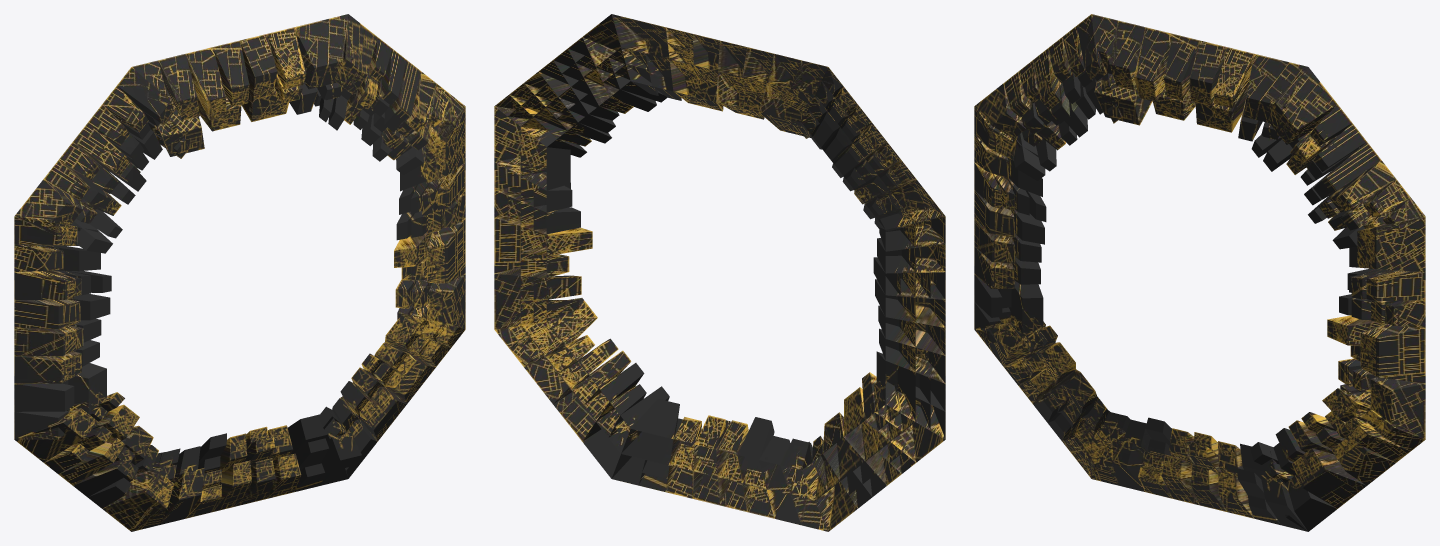
The model's file is gate.glb.
3 views of the same model, side by side, from view 1: azimuth 30°, elevation 25°; view 2: azimuth 150°, elevation 25°; view 3: azimuth 330°, elevation 25° (orthographic).
Parts seen in each view (by area): view 1: Object_3; view 2: Object_3; view 3: Object_3.
Boxes of the visible parts, bbox=[...] form: Object_3: bbox=[14, 14, 465, 531]; Object_3: bbox=[494, 14, 945, 531]; Object_3: bbox=[974, 14, 1425, 531].
Bounding box in the file's own units: 1.83 × 1.8 × 0.1494.
1 material, 1 textured.
